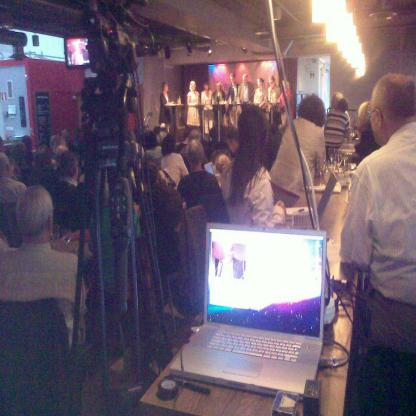board: (180, 225, 326, 388)
